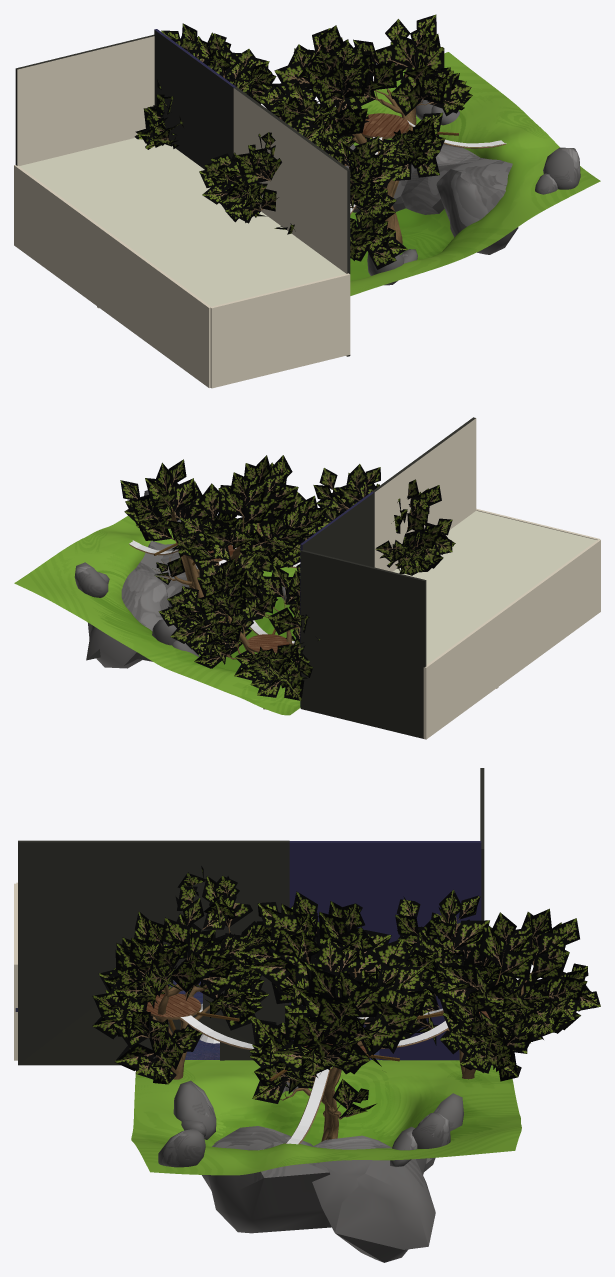
The model's file is map kaja version.fbx.
3 views of the same model, one above another, from view 1: azimuth 30°, elevation 25°; view 2: azimuth 150°, elevation 25°; view 3: azimuth 270°, elevation 25° (orthographic). The views are drawn at different scales.
Visible parts, largest first — view 1: ground.008, oak leaf_2.003, ground.001, NAVIGATION-GROUND-grass, ground.009, ground.007, oak leaf_2.002, Cube.013, ground.010, NAVIGATION-GROUND-rocks, oak leaf_2.001, bush.005 (+3 smaller); view 2: ground.009, oak leaf_2.003, ground.001, ground.008, NAVIGATION-GROUND-grass, oak leaf_2.001, Cube.013, oak leaf_2.002, NAVIGATION-GROUND-rocks, ground.010, SWINGABLE-mossybark02_0.002, bush.002 (+3 smaller); view 3: Cube.013, NAVIGATION-GROUND-grass, oak leaf_2.003, oak leaf_2.001, oak leaf_2.002, NAVIGATION-GROUND-rocks, ground.010, bush.003, bush.002, bush.005, SWINGABLE-mossybark02_0.002, NAVIGATION-GROUND-Circle.002 (+6 smaller).
Part boxes in pixels (left/top/right/bottom): ground.008: left=19, top=138, right=345, bottom=306; oak leaf_2.003: left=259, top=14, right=472, bottom=180; ground.001: left=14, top=165, right=211, bottom=387; NAVIGATION-GROUND-grass: left=350, top=52, right=600, bottom=295; ground.009: left=15, top=34, right=154, bottom=165; ground.007: left=210, top=273, right=350, bottom=388; oak leaf_2.002: left=199, top=119, right=407, bottom=269; Cube.013: left=233, top=87, right=350, bottom=356; ground.010: left=154, top=29, right=236, bottom=169; NAVIGATION-GROUND-rocks: left=353, top=143, right=518, bottom=254; oak leaf_2.001: left=134, top=23, right=276, bottom=149; bush.005: left=535, top=147, right=580, bottom=194; ground.009: left=300, top=550, right=426, bottom=738; oak leaf_2.003: left=120, top=455, right=332, bottom=586; ground.001: left=423, top=539, right=600, bottom=739; ground.008: left=393, top=510, right=596, bottom=664; NAVIGATION-GROUND-grass: left=14, top=516, right=300, bottom=715; oak leaf_2.001: left=158, top=553, right=320, bottom=700; Cube.013: left=372, top=417, right=476, bottom=571; oak leaf_2.002: left=313, top=464, right=455, bottom=575; NAVIGATION-GROUND-rocks: left=86, top=541, right=199, bottom=668; ground.010: left=300, top=492, right=374, bottom=706; SWINGABLE-mossybark02_0.002: left=153, top=487, right=295, bottom=600; bush.002: left=74, top=562, right=109, bottom=597; Cube.013: left=18, top=840, right=289, bottom=1065; NAVIGATION-GROUND-grass: left=131, top=1060, right=521, bottom=1175; oak leaf_2.003: left=239, top=891, right=441, bottom=1118; oak leaf_2.001: left=395, top=889, right=600, bottom=1081; oak leaf_2.002: left=92, top=866, right=271, bottom=1084; NAVIGATION-GROUND-rocks: left=202, top=1126, right=435, bottom=1262; ground.010: left=289, top=841, right=481, bottom=1060; bush.003: left=173, top=1080, right=216, bottom=1139; bush.002: left=390, top=1113, right=450, bottom=1166; bush.005: left=158, top=1128, right=205, bottom=1167; SWINGABLE-mossybark02_0.002: left=280, top=938, right=399, bottom=1141; NAVIGATION-GROUND-Circle.002: left=146, top=993, right=200, bottom=1019.
Size of the model in its own units: 10871 by 5642 by 10216.
